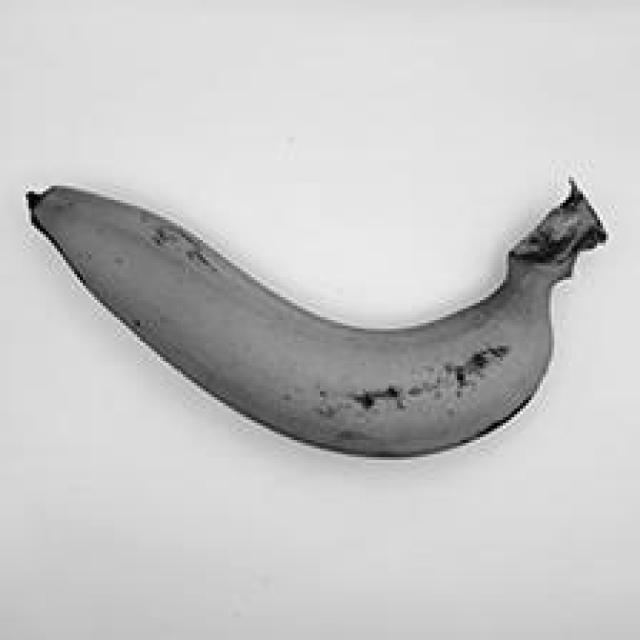Raw: (19, 144, 618, 472)
